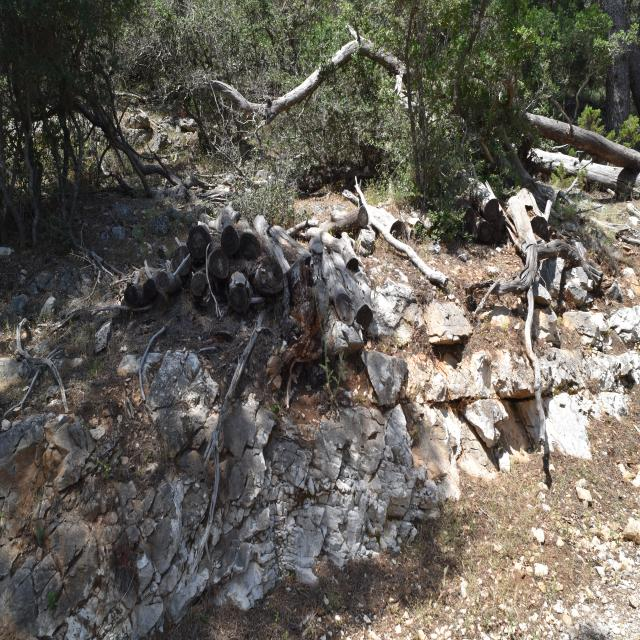restos de madeira: (272, 245, 371, 401), (499, 188, 557, 328), (318, 236, 376, 331), (352, 178, 414, 250), (105, 259, 181, 312), (370, 226, 434, 284), (221, 330, 261, 412), (200, 431, 222, 574), (41, 296, 108, 338), (251, 214, 294, 279), (506, 188, 543, 250), (581, 160, 640, 197), (481, 180, 510, 233), (14, 365, 44, 412), (200, 413, 224, 471), (252, 254, 284, 297), (331, 233, 362, 274), (47, 359, 70, 414), (328, 205, 368, 234), (468, 179, 497, 219), (233, 220, 260, 262), (524, 286, 537, 373), (84, 250, 120, 281), (227, 272, 251, 312), (188, 223, 211, 261), (475, 280, 502, 312), (564, 163, 590, 195), (94, 304, 146, 318), (285, 217, 317, 238), (220, 224, 240, 256), (302, 226, 334, 246), (252, 214, 271, 240), (216, 208, 236, 232), (476, 220, 495, 243), (173, 254, 191, 278), (464, 208, 478, 232), (144, 259, 155, 279)
